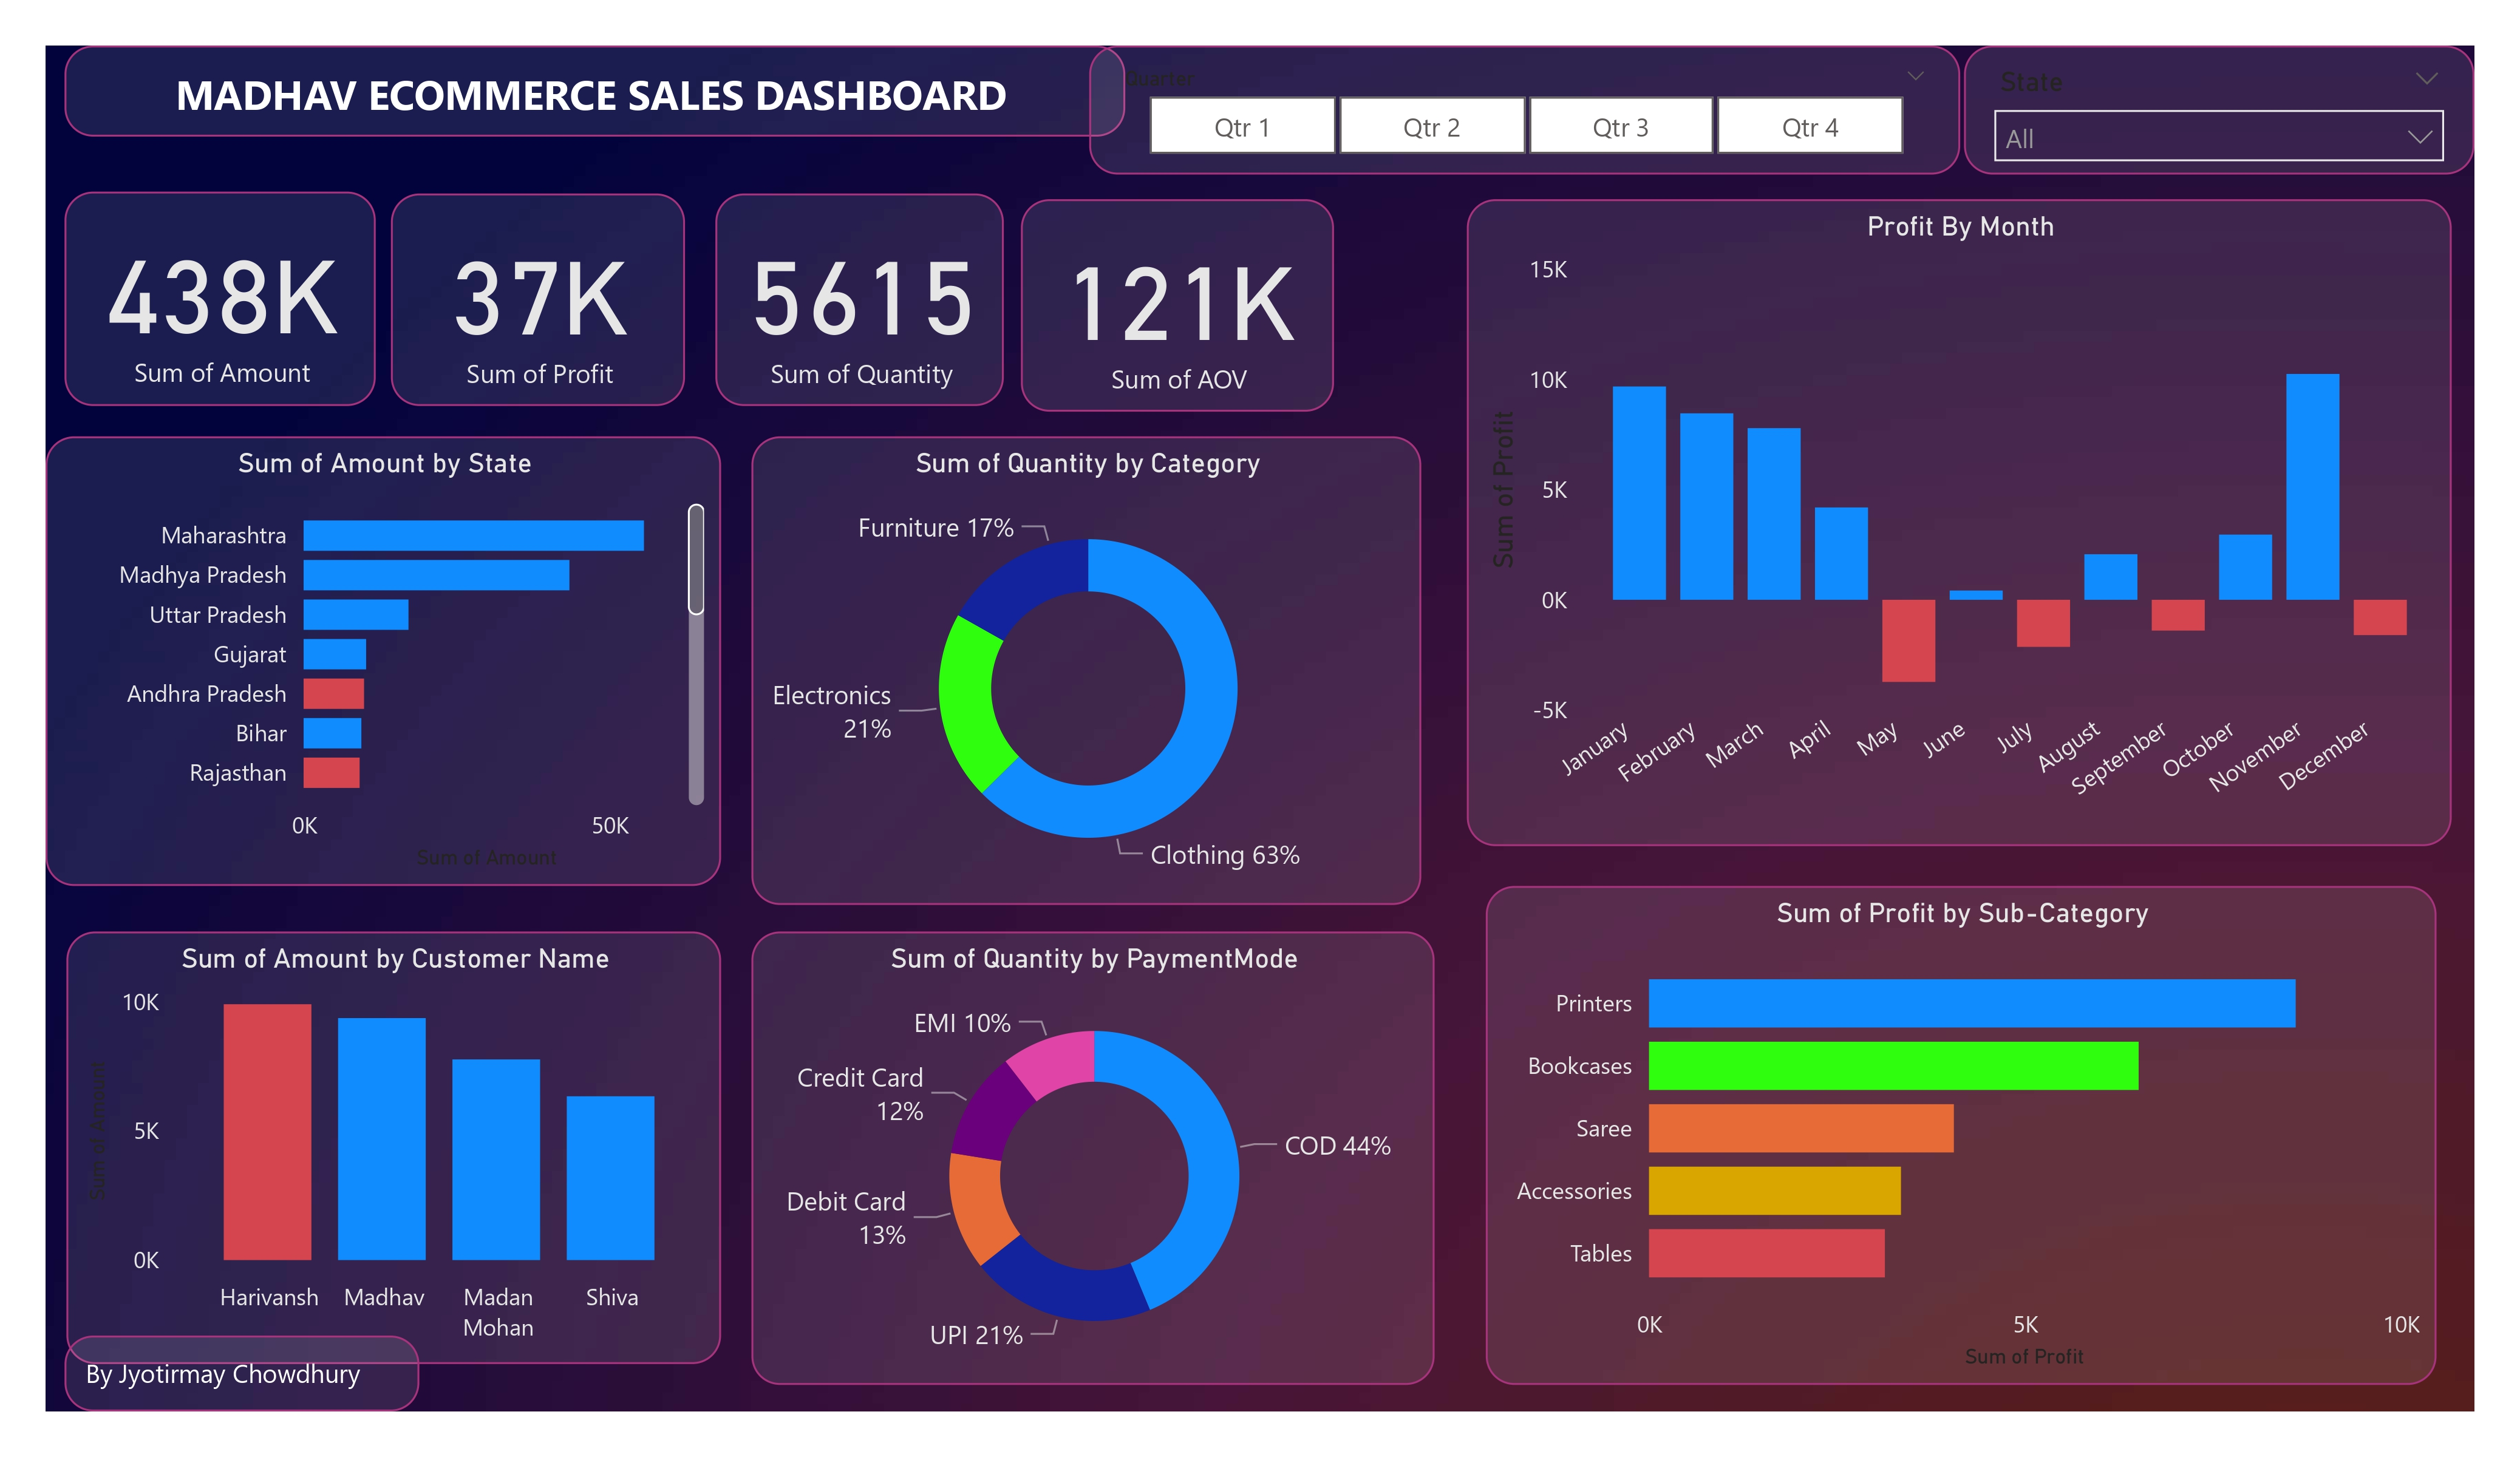

The dashboard page shown, as its layout file describes it:
{"tool":"powerbi","page":{"name":"Page 1","canvas":[1280,720],"ordinal":0},"visuals":[{"type":"textbox","box":[9.7,0,559.3,48.4],"z":0},{"type":"columnChart","title":"Profit By Month","fields":{"Category":["Orders.Order Date.Variation.Date Hierarchy.Month"],"Y":["Details.Profit"]},"box":[749.5,80.6,519,341.7],"z":1000},{"type":"barChart","fields":{"Category":["Details.Sub-Category"],"Y":["Details.Profit"]},"box":[759.1,443.2,501.3,262.7],"z":2000},{"type":"donutChart","fields":{"Category":["Details.Category"],"Y":["Details.Quantity"]},"box":[372.3,206.3,353,246.6],"z":3000},{"type":"donutChart","fields":{"Y":["Details.Quantity"],"Category":["Details.PaymentMode"]},"box":[372.3,467.4,359.4,238.5],"z":4000},{"type":"card","fields":{"Values":["Details.Amount"]},"box":[9.7,77.4,164.4,112.8],"z":5000},{"type":"card","fields":{"Values":["Details.Quantity"]},"box":[353.3,77.5,151.5,112.8],"z":6000},{"type":"card","fields":{"Values":["Details.Profit"]},"box":[182.4,77.5,154.7,112.8],"z":7000},{"type":"card","fields":{"Values":["Details.AOV"]},"box":[514.1,80.6,164.4,112.8],"z":8000},{"type":"barChart","fields":{"Category":["Orders.State"],"Y":["Details.Amount"]},"box":[0,206.3,356.2,236.9],"z":9000},{"type":"columnChart","title":"Sum of Amount by Customer Name","fields":{"Y":["Details.Amount"],"Category":["Orders.CustomerName"]},"box":[11.3,467.4,344.9,227.3],"z":10000},{"type":"slicer","fields":{"Values":["Orders.Order Date.Variation.Date Hierarchy.Quarter"]},"box":[549.6,0,459.3,67.7],"z":11000},{"type":"slicer","fields":{"Values":["Orders.State"]},"box":[1010.6,0,269.2,67.7],"z":12000},{"type":"textbox","box":[9.7,680.2,187,40.3],"z":13000}]}

Visuals, with their boxes on the page's 1280x720 design canvas (x1, y1, x2, y2). These are canvas units, not pixel positions in the 2520x1457 screenshot, which may show the page scaled, cropped or inside an application window:
textbox: x1=10 y1=0 x2=569 y2=48
"Profit By Month" columnChart: x1=750 y1=81 x2=1268 y2=422
barChart - Details.Sub-Category x Details.Profit: x1=759 y1=443 x2=1260 y2=706
donutChart - Details.Category x Details.Quantity: x1=372 y1=206 x2=725 y2=453
donutChart - Details.Quantity x Details.PaymentMode: x1=372 y1=467 x2=732 y2=706
card - Details.Amount: x1=10 y1=77 x2=174 y2=190
card - Details.Quantity: x1=353 y1=78 x2=505 y2=190
card - Details.Profit: x1=182 y1=78 x2=337 y2=190
card - Details.AOV: x1=514 y1=81 x2=678 y2=193
barChart - Orders.State x Details.Amount: x1=0 y1=206 x2=356 y2=443
"Sum of Amount by Customer Name" columnChart: x1=11 y1=467 x2=356 y2=695
slicer - Orders.Order Date.Variation.Date Hierarchy.Quarter: x1=550 y1=0 x2=1009 y2=68
slicer - Orders.State: x1=1011 y1=0 x2=1280 y2=68
textbox: x1=10 y1=680 x2=197 y2=720
